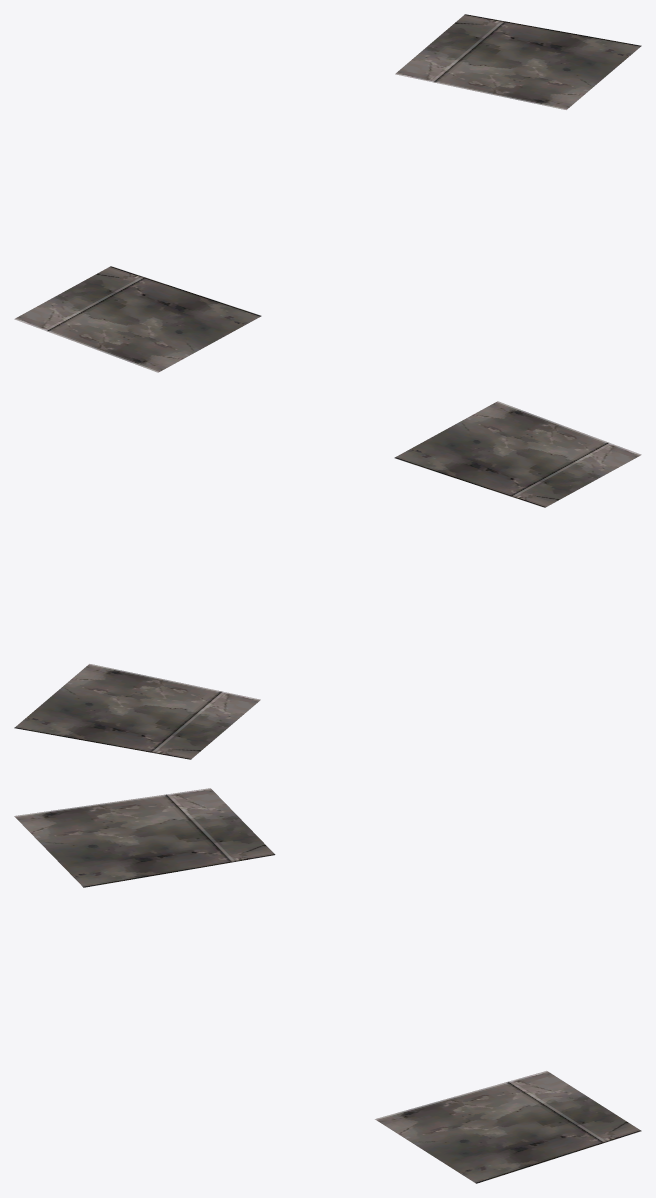
The model's file is CH09_SMAUG_PLAYSURFACE_LAIR139.fbx.
The picture shows the model from 3 angles, top to bottom: view 1: azimuth 30°, elevation 25°; view 2: azimuth 210°, elevation 25°; view 3: azimuth 270°, elevation 25°; orthographic projection. The views are drawn at different scales.
Parts seen in each view (by area): view 1: CH09_SMAUG_PLAYSURFACE_LAIR139; view 2: CH09_SMAUG_PLAYSURFACE_LAIR139; view 3: CH09_SMAUG_PLAYSURFACE_LAIR139.
Part boxes in pixels (x1,y1,x2,y2): CH09_SMAUG_PLAYSURFACE_LAIR139: [14, 14, 641, 372]; CH09_SMAUG_PLAYSURFACE_LAIR139: [14, 401, 641, 759]; CH09_SMAUG_PLAYSURFACE_LAIR139: [14, 788, 641, 1183].
Bounding box in the file's own units: 49862 × 0.0116 × 33434.
1 material, 1 textured.
